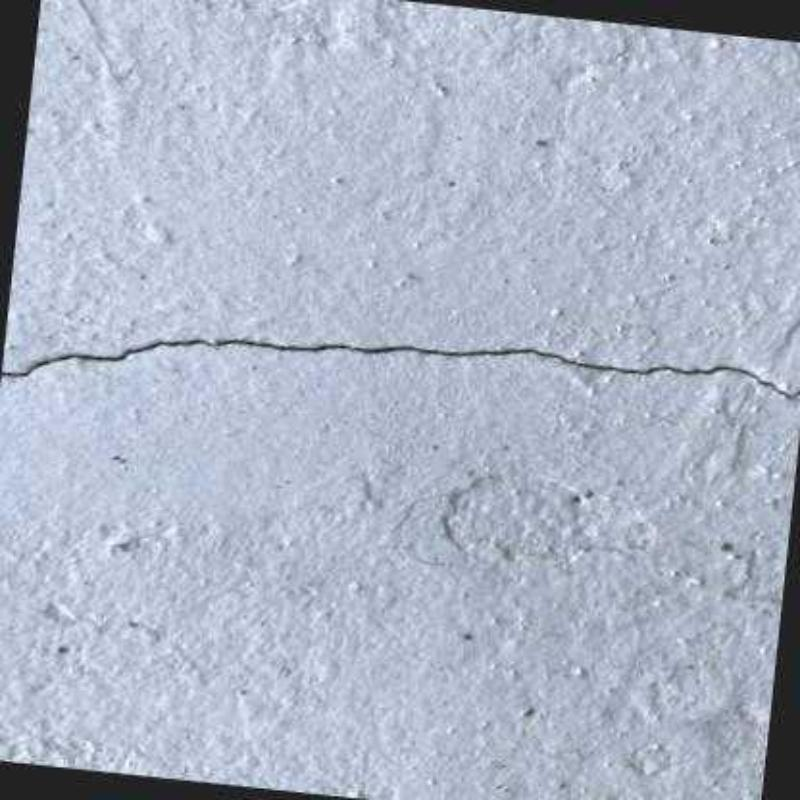pothole: (2, 340, 799, 398)
